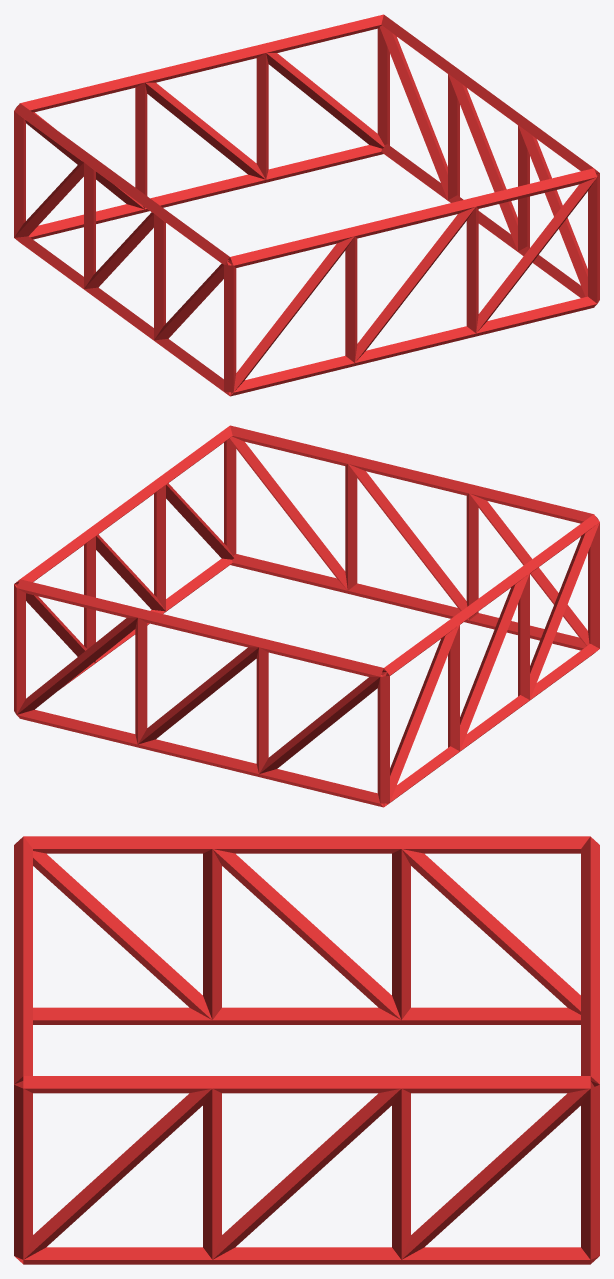
File: andamioCentral.DAE
The picture shows the model from 3 angles, top to bottom: view 1: azimuth 30°, elevation 25°; view 2: azimuth 150°, elevation 25°; view 3: azimuth 270°, elevation 25°; orthographic projection. The views are drawn at different scales.
Parts seen in each view (by area): view 1: andamioCentral; view 2: andamioCentral; view 3: andamioCentral.
Boxes of the visible parts, box(x1,y1,x2,y2) form: andamioCentral: box(14, 14, 599, 396); andamioCentral: box(14, 425, 599, 807); andamioCentral: box(14, 836, 599, 1264).
Size of the model in its own units: 12.4 by 4.4 by 12.4.
